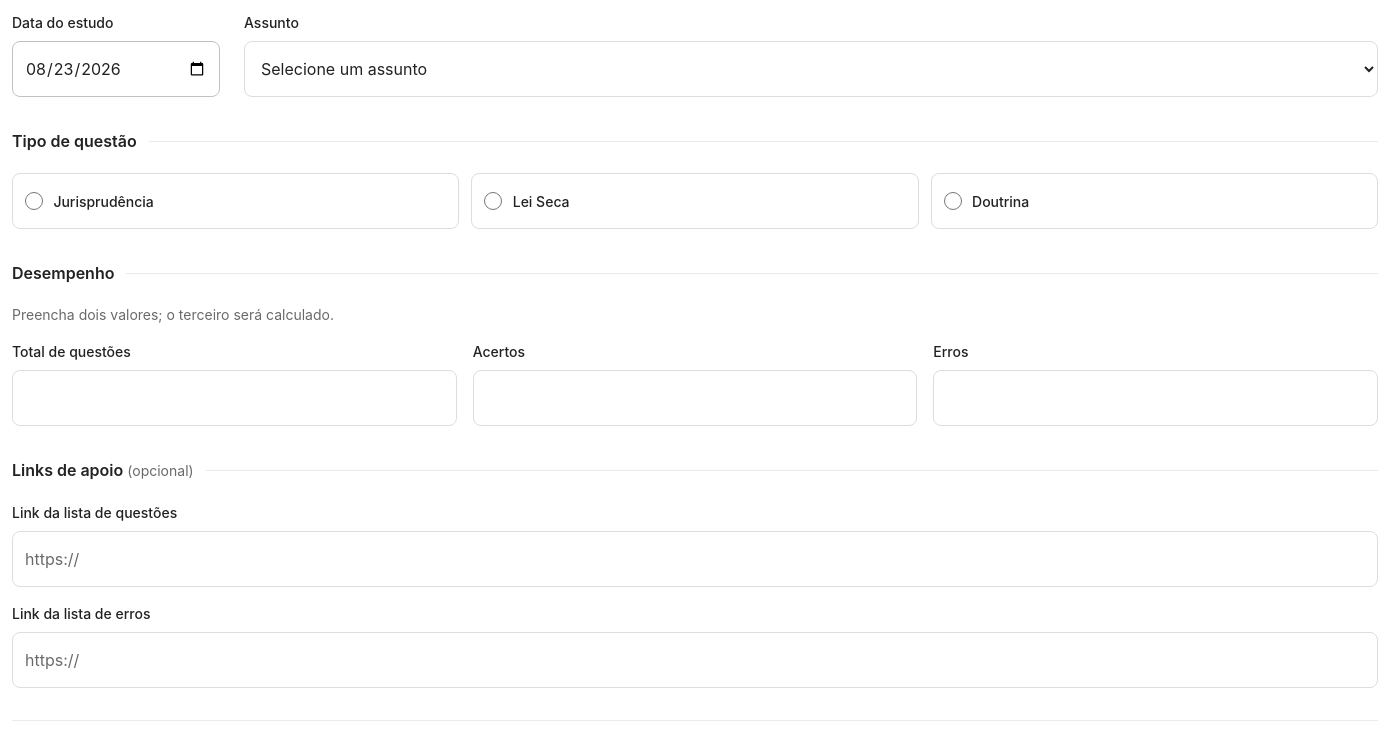
Test case: SessionForm › calculates correct answers from total and errors
Type "50" into the number field labelled "Total de questões" at x=234, y=398, box [12,370,457,426]
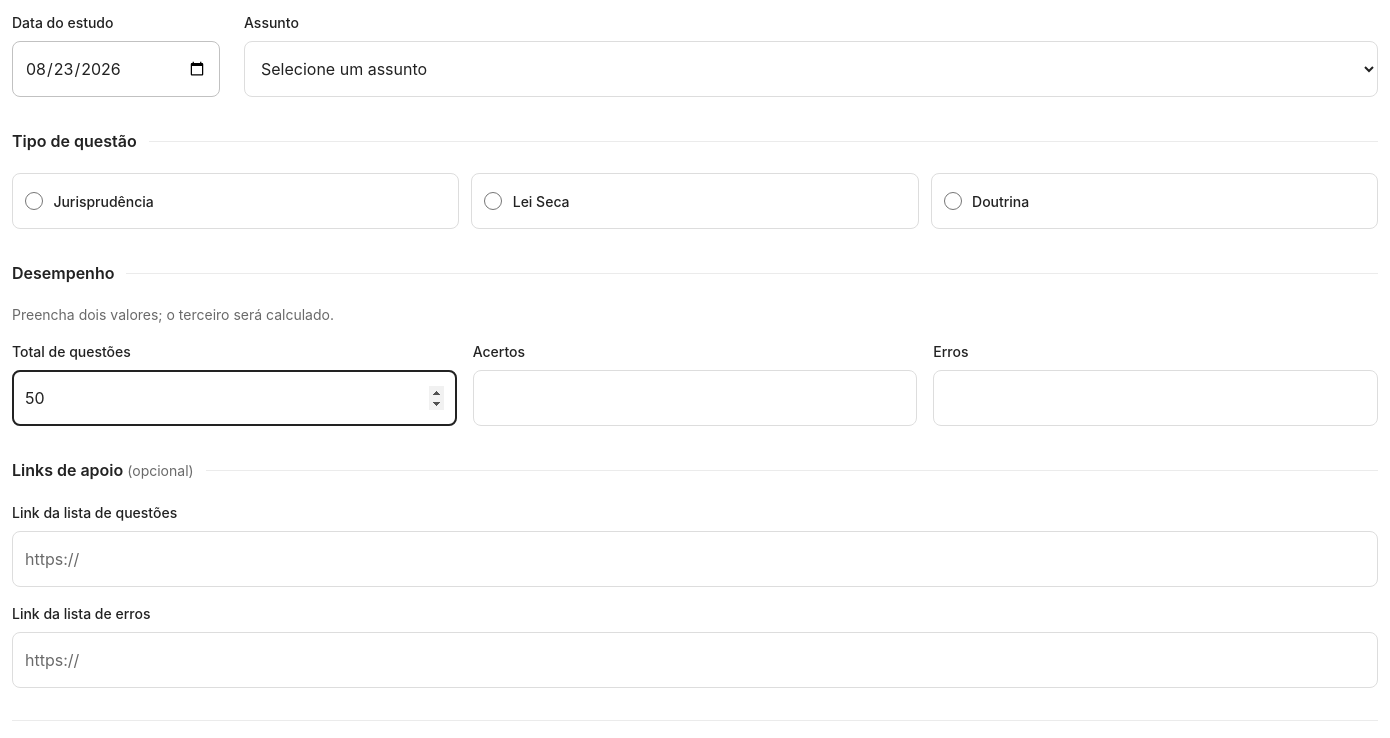
Type "20" into the number field labelled "Erros" at x=1156, y=398, box [933,370,1378,426]
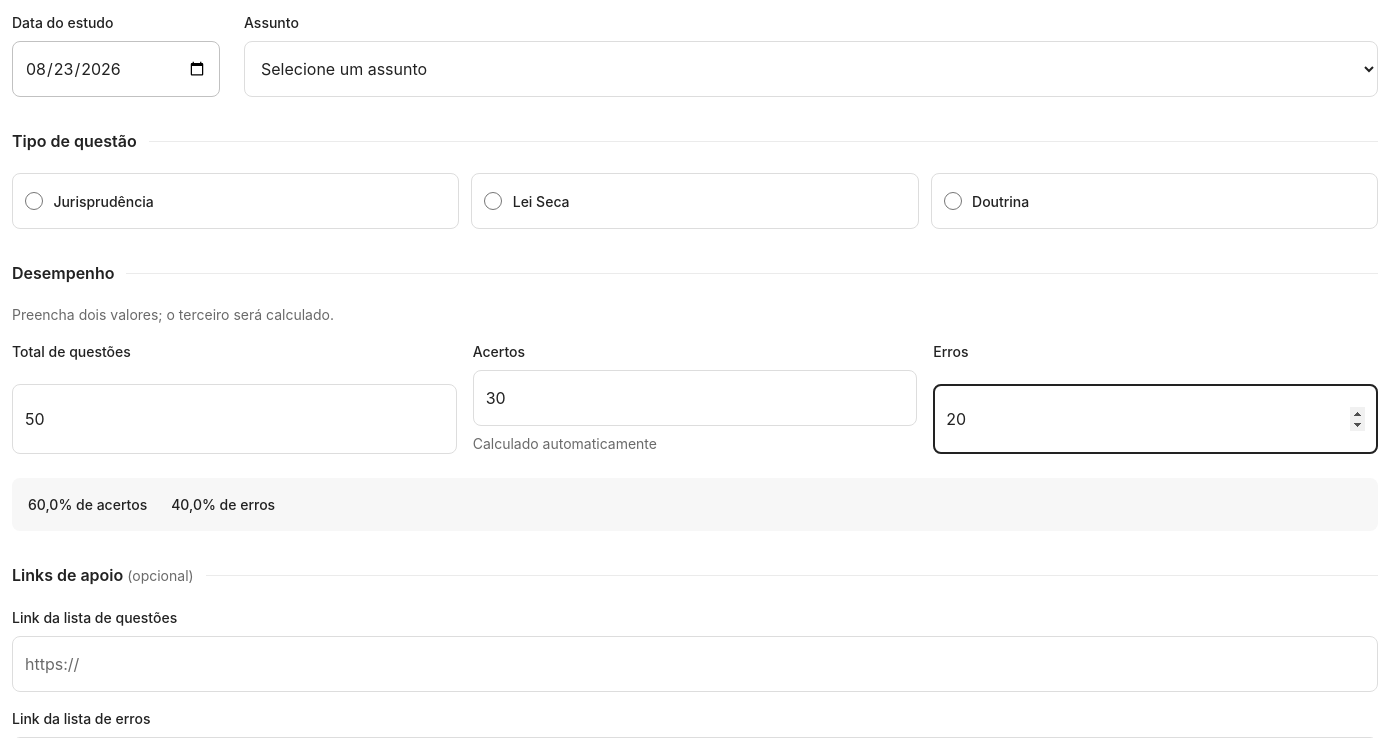
expect the number field labelled "Acertos" holds "30": met, box [473,370,917,426]
expect the text "Calculado automaticamente" is shown: met, box [473,435,657,452]
